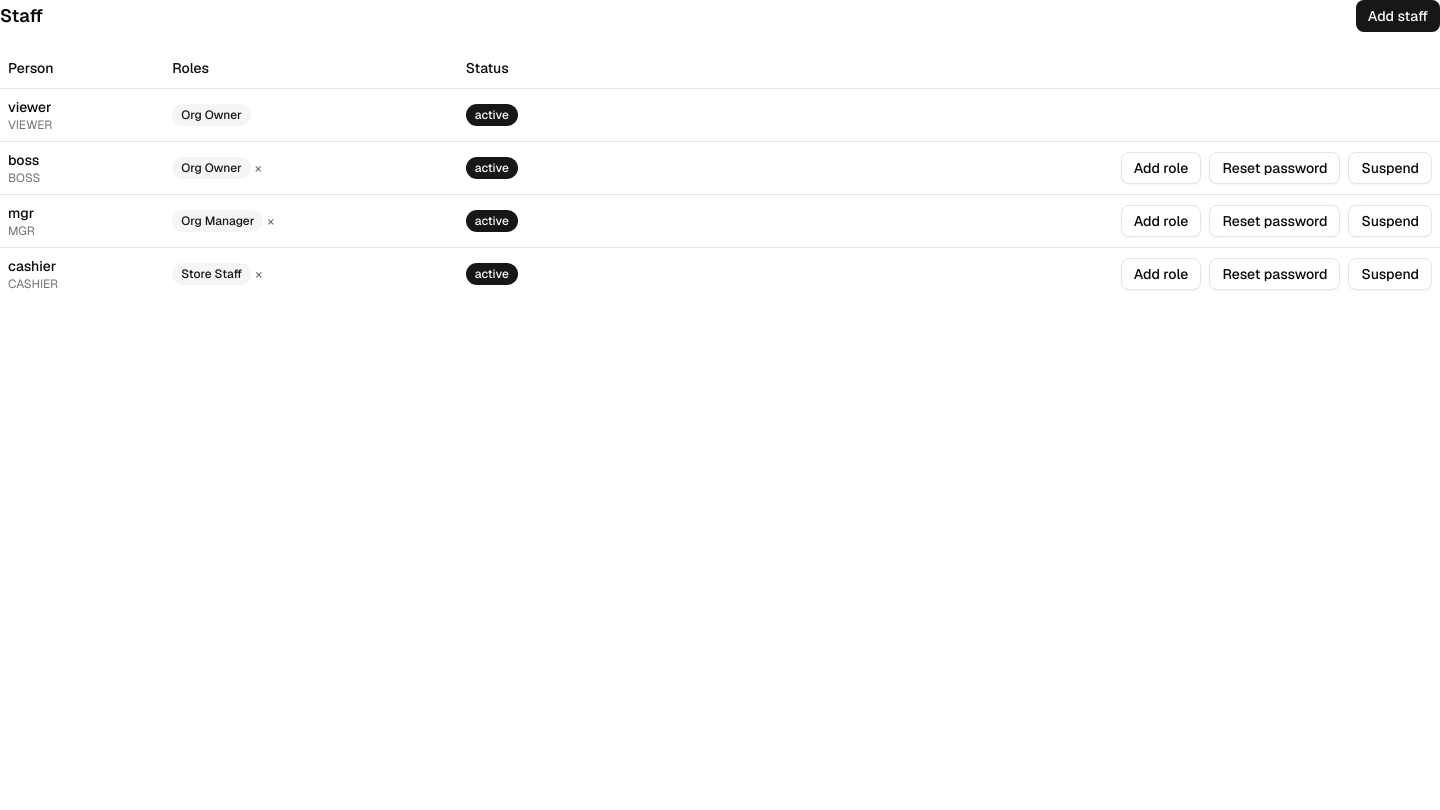
Test: StaffManager › creates a person and shows their one-time password
Expected: the text "cashier" is shown, [8,256,56,274]
Click the button "Add staff".
click(1398, 16)  # box [1356,0,1439,32]
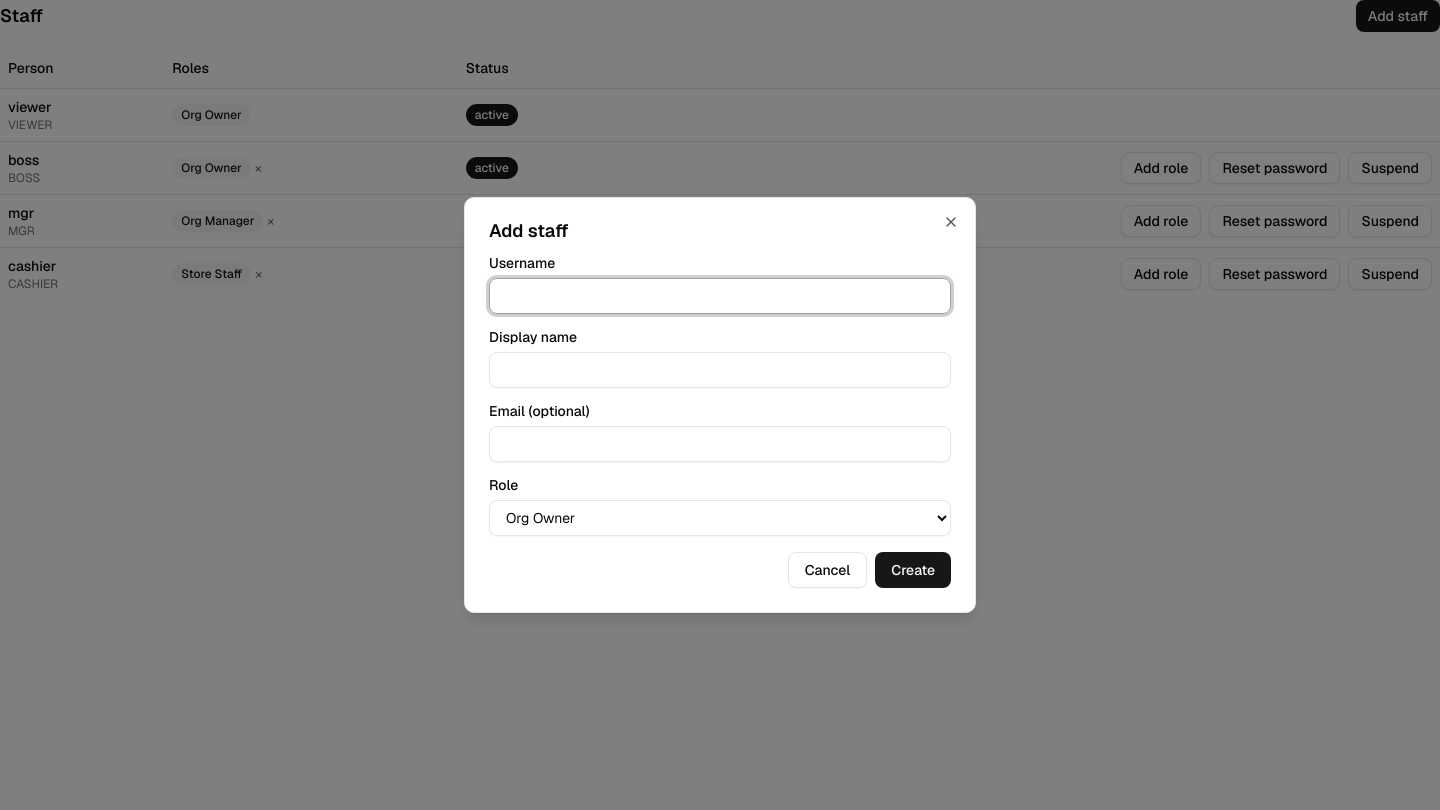
Type "newbie" into the field labelled "Username".
click(720, 296); type("newbie")  # box [489,278,951,314]
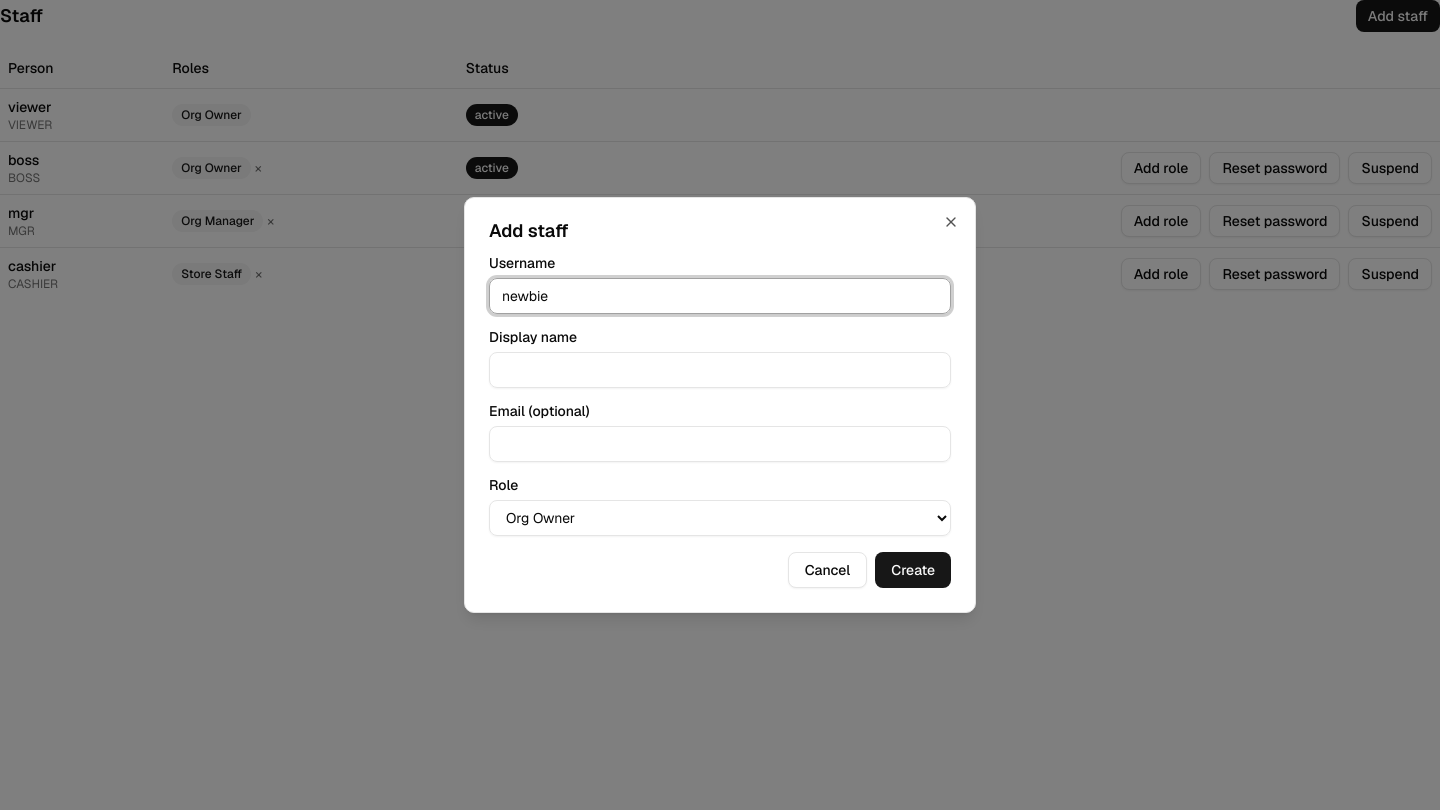
Type "New Bie" into the field labelled "Display name".
click(720, 370); type("New Bie")  # box [489,352,951,388]
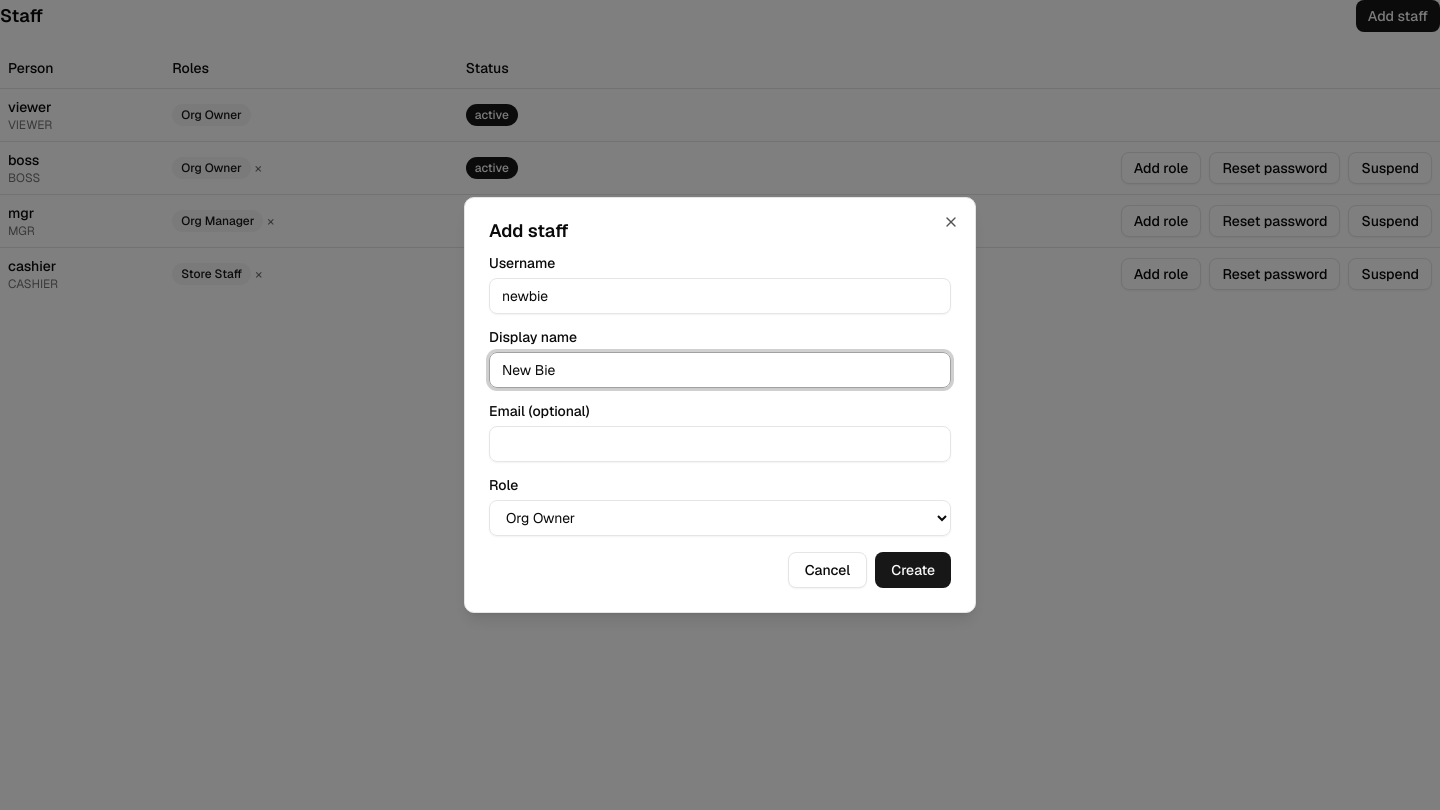
Select "Org Manager" in the dropdown labelled "Role" at (720, 518), box [489,500,951,536]
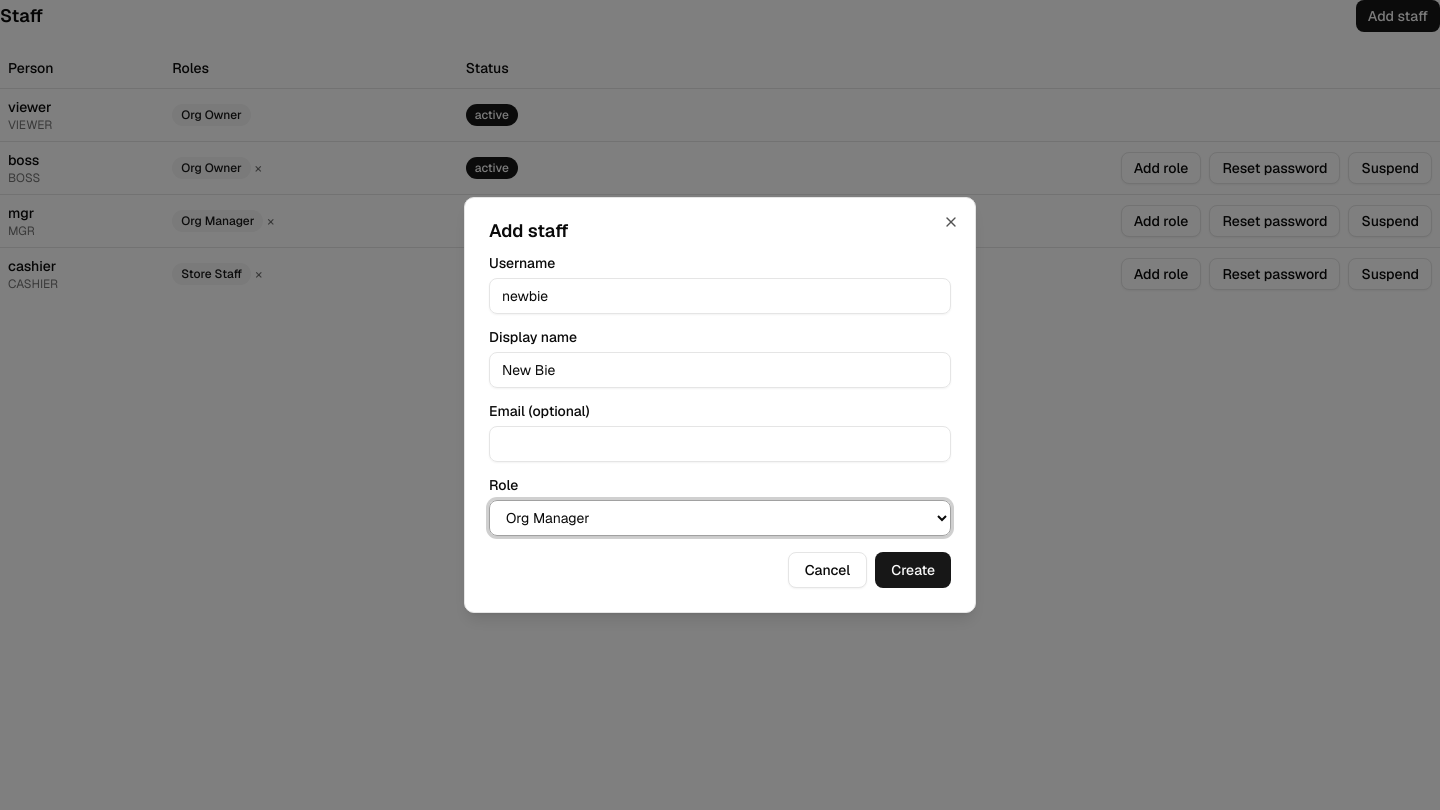
Click the button "Create".
click(913, 570)  # box [875,552,951,588]
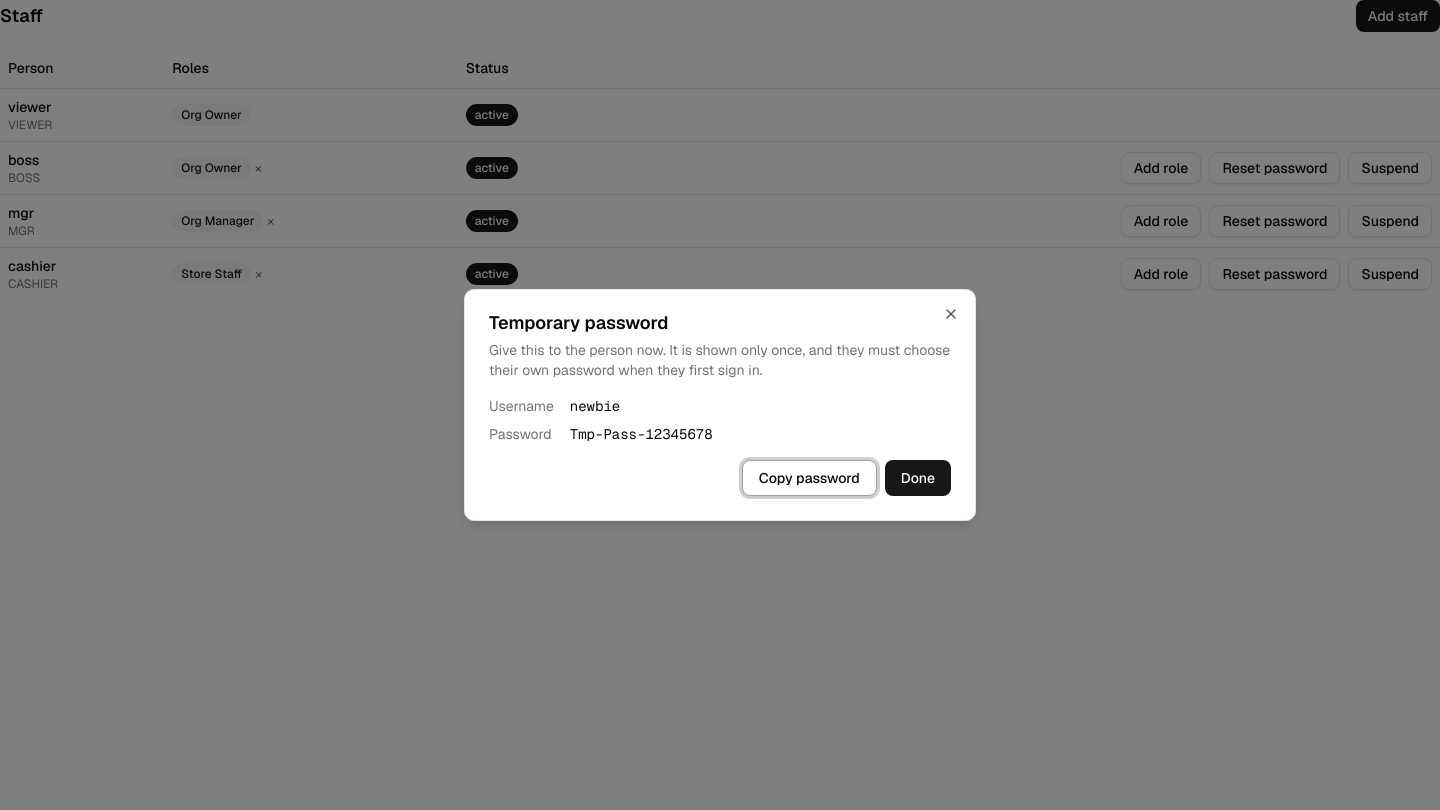
Expected: the text "Tmp-Pass-12345678" is shown, [570,425,713,443]
